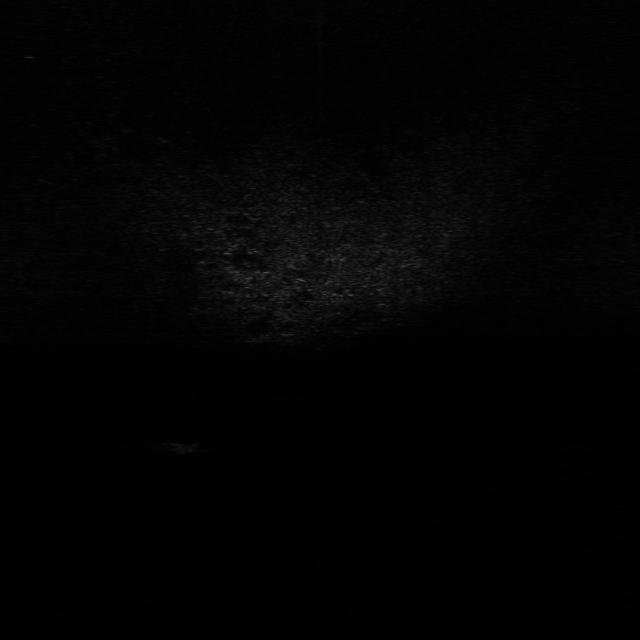cube: (168, 440, 203, 456)
